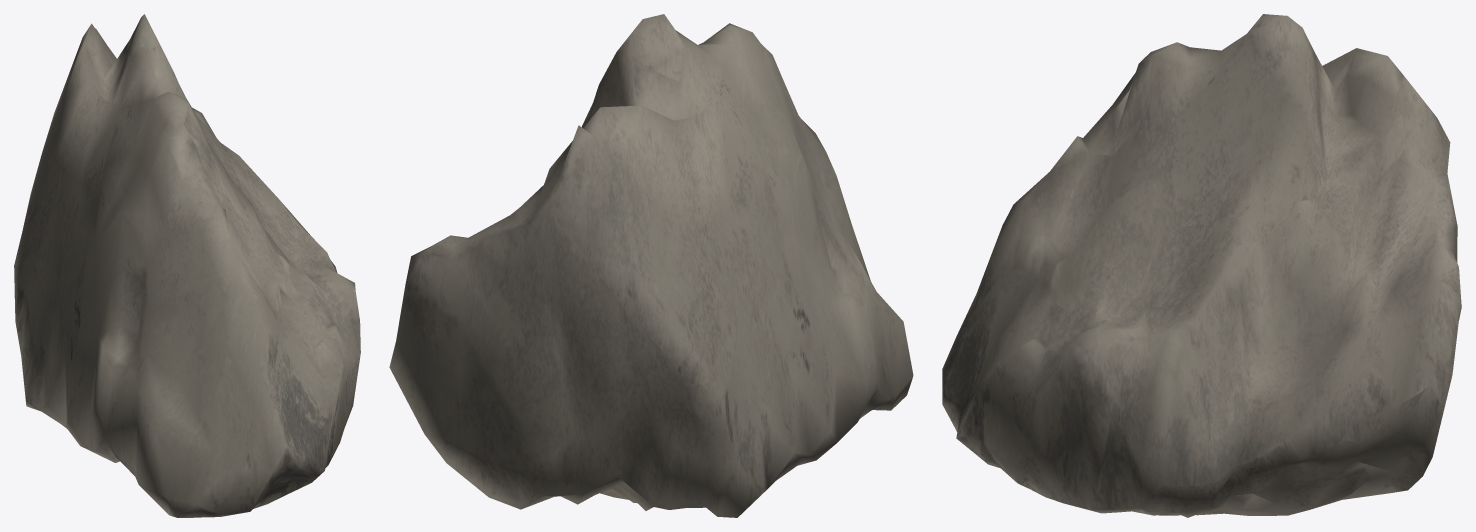
Rendered from moon_rock_04_hi.glb.
3 renders of one model, left to right at view 1: azimuth 30°, elevation 25°; view 2: azimuth 150°, elevation 25°; view 3: azimuth 270°, elevation 25°, orthographic. The views are drawn at different scales.
Visible parts, largest first — view 1: moon_rock_04_hi; view 2: moon_rock_04_hi; view 3: moon_rock_04_hi.
Boxes of the visible parts, x1=… form: moon_rock_04_hi: x1=14, y1=14, x2=360, y2=517; moon_rock_04_hi: x1=389, y1=14, x2=913, y2=517; moon_rock_04_hi: x1=942, y1=14, x2=1461, y2=517.
Size of the model in its own units: 0.6862 by 0.9974 by 0.991.
1 material, 1 textured.
